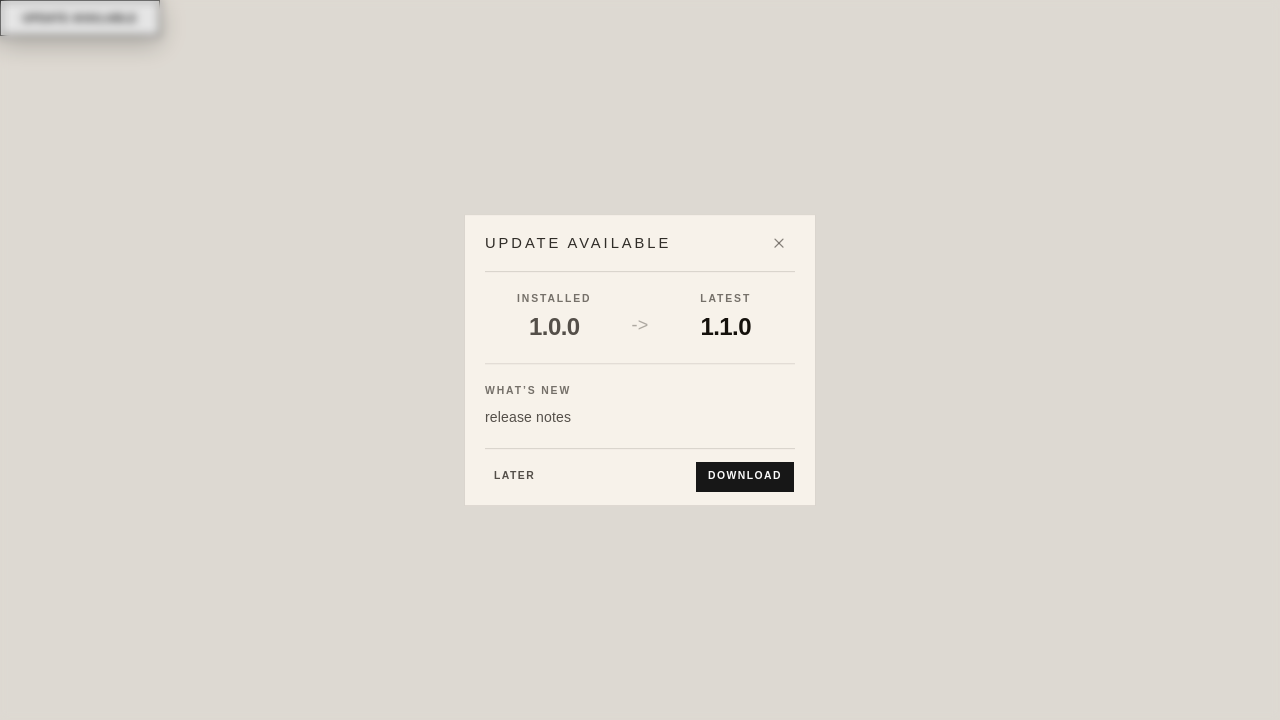
app updater › never installs after a download or signature failure
The width and height of the screenshot is (1280, 720).
Expected: the dialog is shown, [464,214,816,506]
Click the button "DOWNLOAD".
click(745, 477)  # box [695,461,795,493]
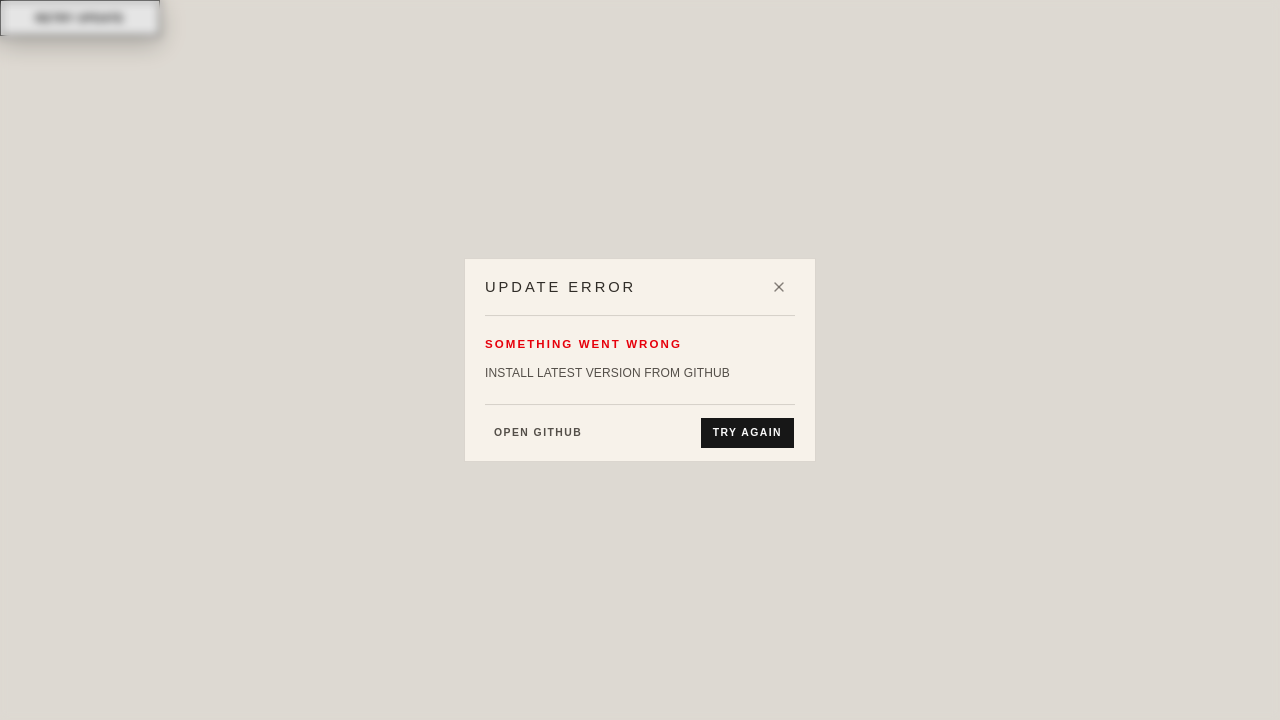
Expected: the text "SOMETHING WENT WRONG" is shown, [485,338,682,350]
